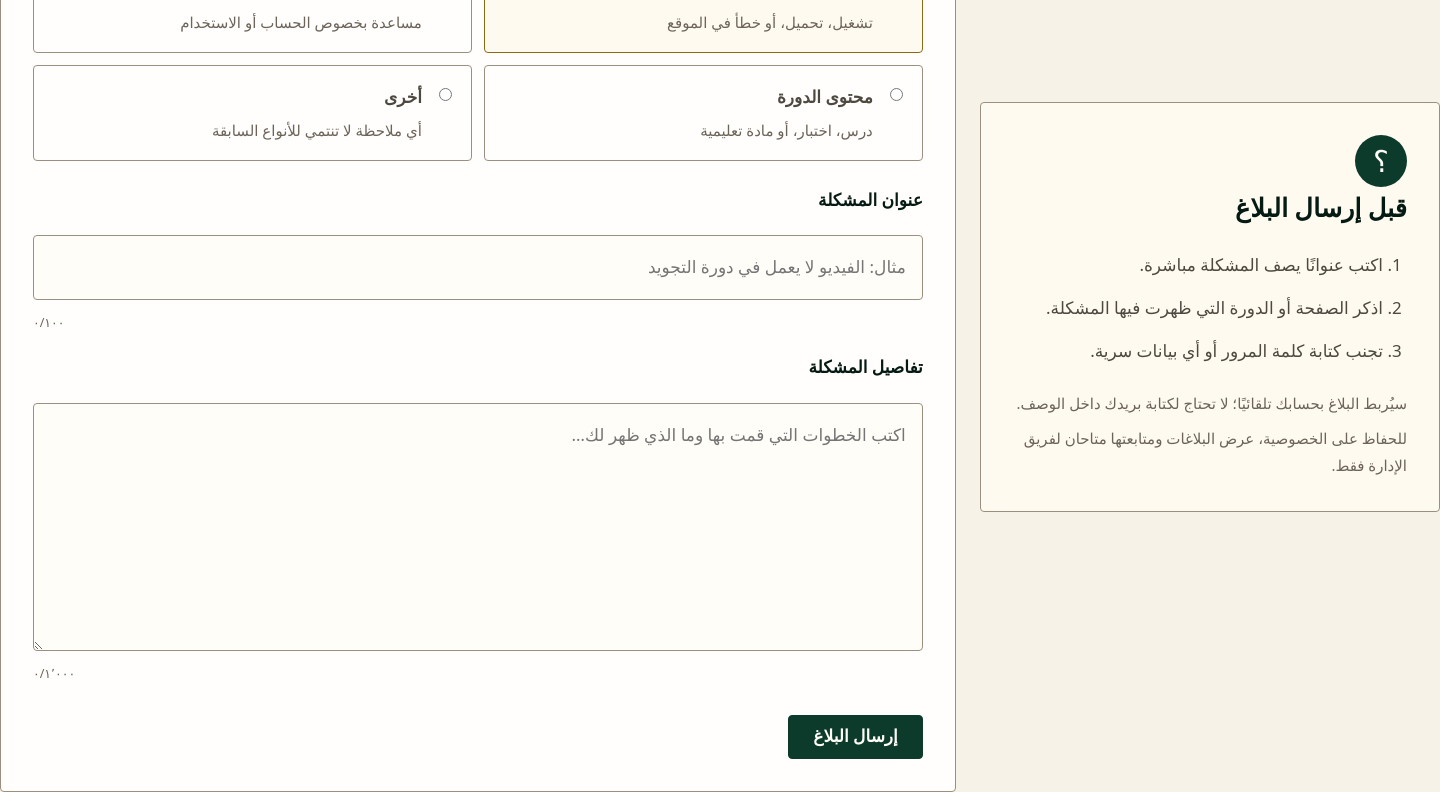
it: SupportComponent › keeps submit actionable and explains invalid fields after the click
(page scrolled)
Click the submit button.
click(856, 737)  # box x1=788 y1=715 x2=923 y2=759
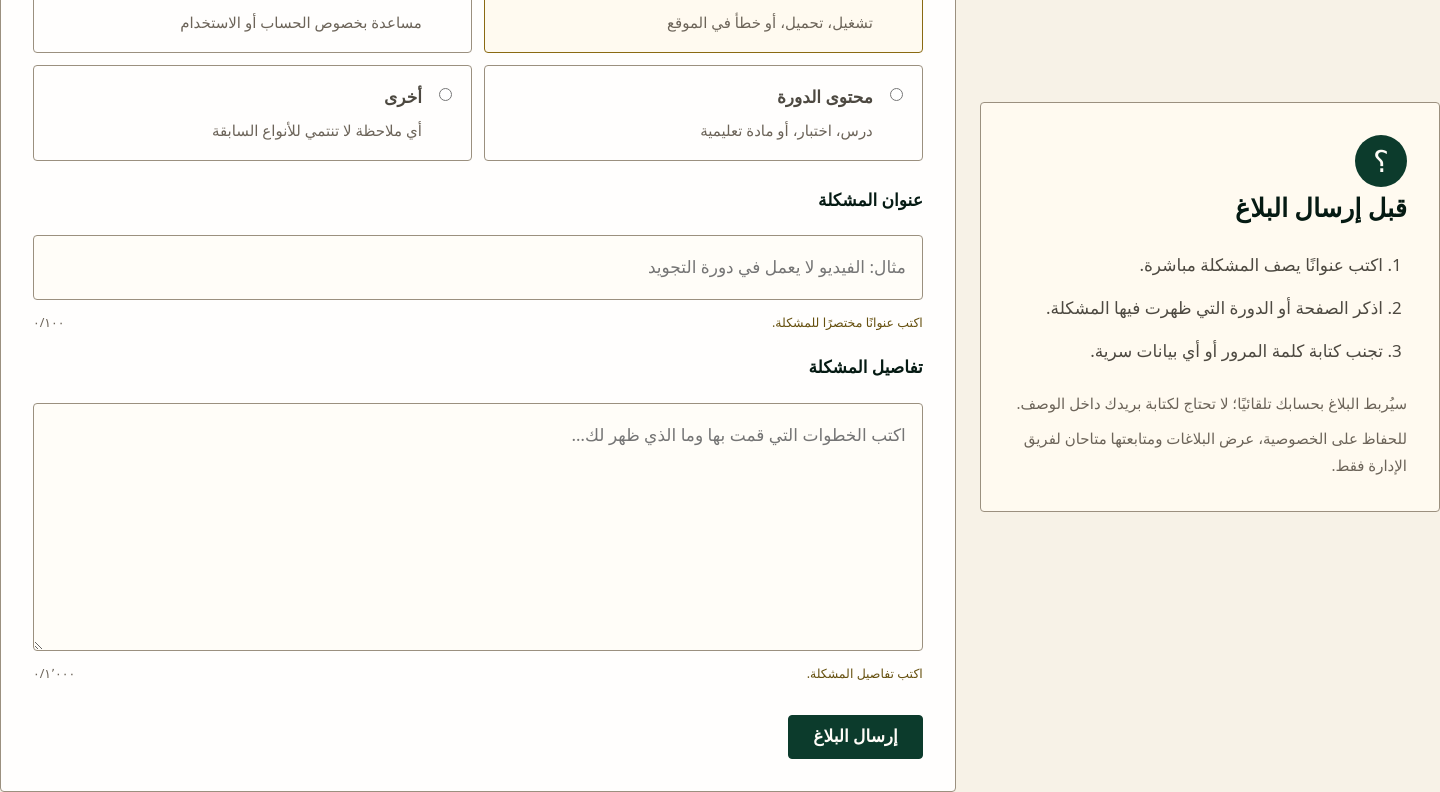
Result: the text "اكتب عنوانًا مختصرًا" is shown at x1=772 y1=314 x2=923 y2=331
Result: the text "اكتب تفاصيل المشكلة" is shown at x1=807 y1=665 x2=923 y2=682
